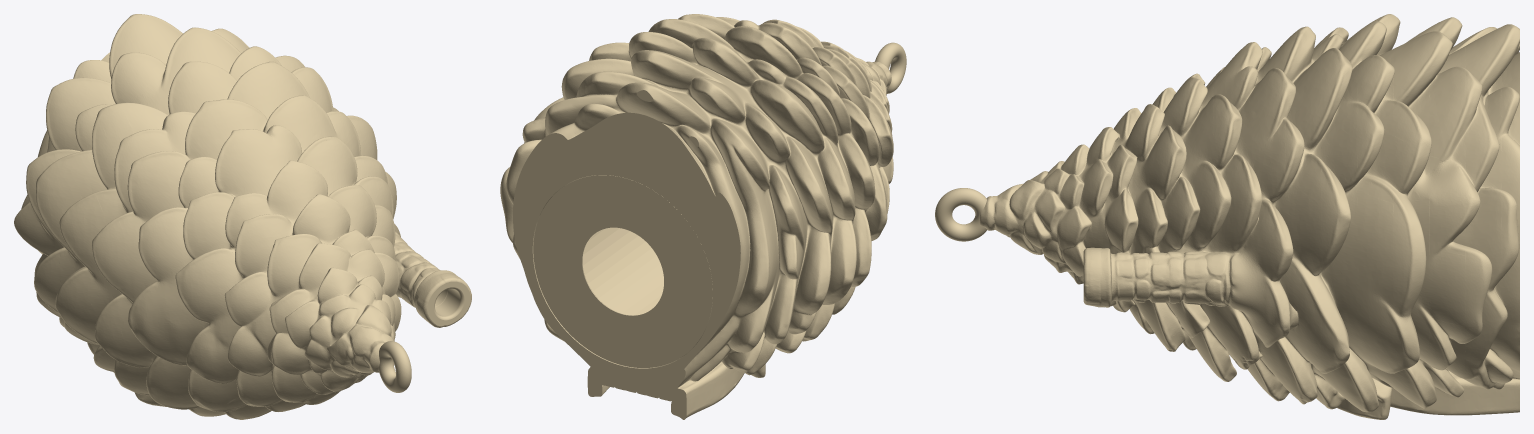
File: la-casita-del-pino.glb
3 views of the same model, side by side, from view 1: azimuth 30°, elevation 25°; view 2: azimuth 150°, elevation 25°; view 3: azimuth 270°, elevation 25° (orthographic). The views are drawn at different scales.
Parts seen in each view (by area): view 1: La Casita del Pino - todo_unido; view 2: La Casita del Pino - todo_unido; view 3: La Casita del Pino - todo_unido.
Part boxes in pixels (x1,y1,x2,y2): La Casita del Pino - todo_unido: (14, 14, 471, 419); La Casita del Pino - todo_unido: (500, 14, 906, 419); La Casita del Pino - todo_unido: (935, 14, 1519, 419).
Size of the model in its own units: 76.17 by 77.12 by 112.
